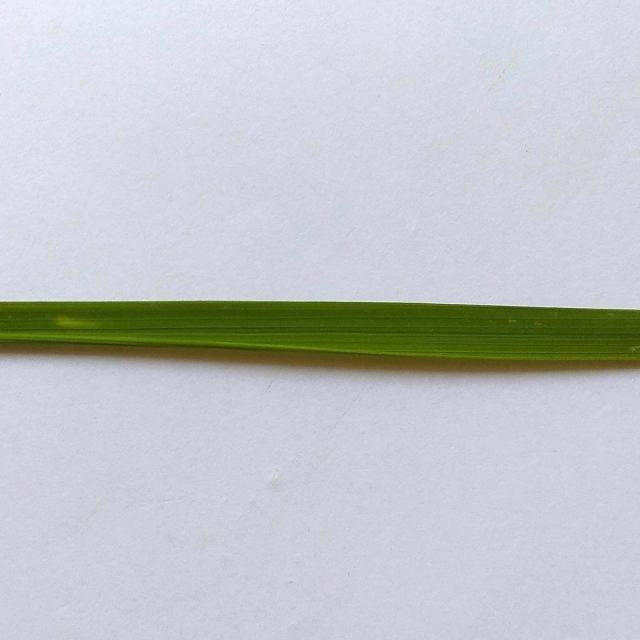healthy: (0, 264, 640, 412)
